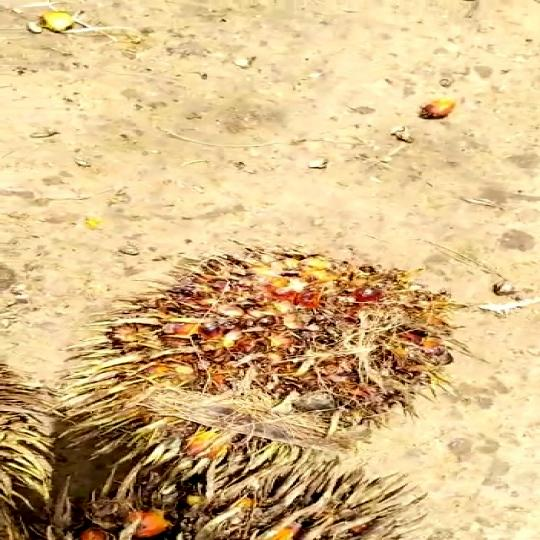terlalu masak: (77, 232, 496, 488)
